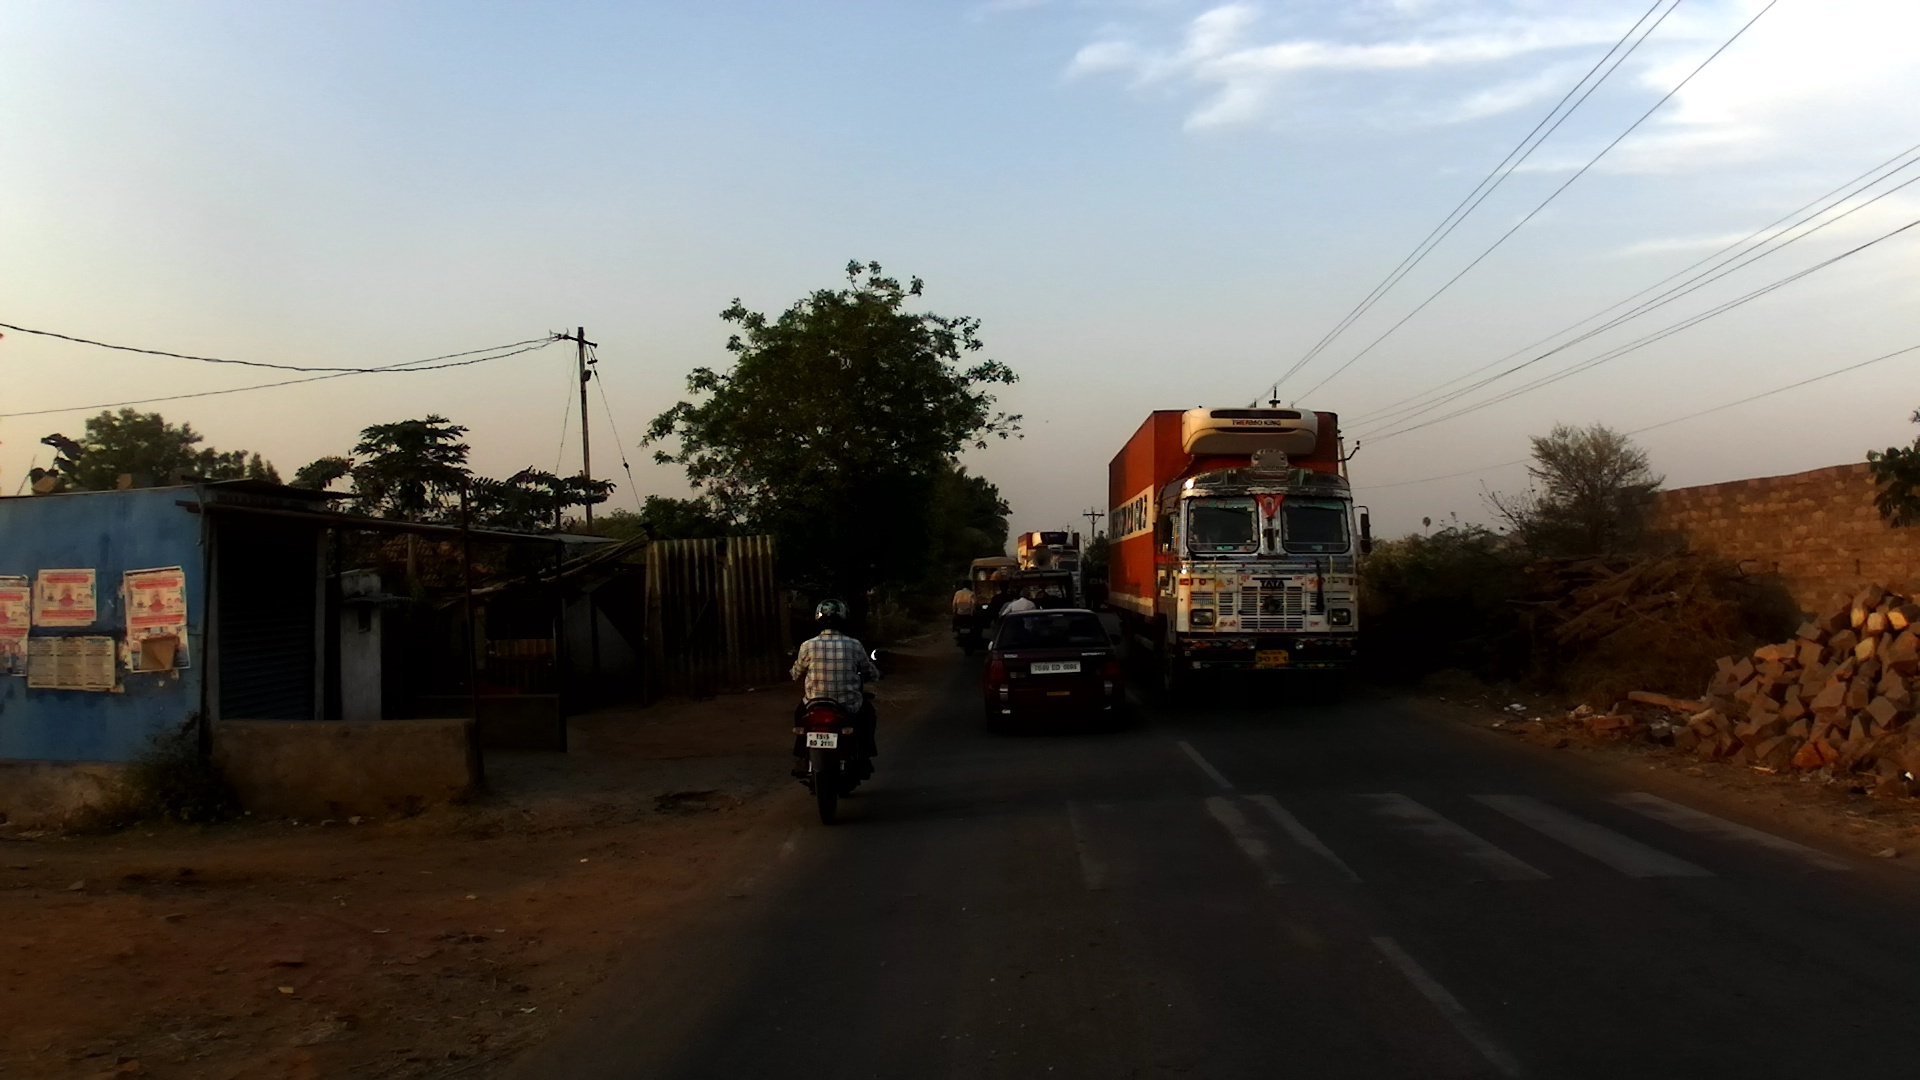autorickshaw: (964, 554, 1022, 627), (1005, 564, 1074, 616)
car: (984, 609, 1126, 739)
motorcycle: (787, 642, 889, 829), (954, 606, 981, 665), (981, 602, 1013, 628)
rider: (774, 597, 885, 777), (949, 577, 982, 639), (990, 580, 1014, 628), (1002, 586, 1033, 618), (999, 586, 1021, 618), (954, 580, 966, 603)
truck: (1103, 405, 1374, 715), (1016, 531, 1084, 598)
